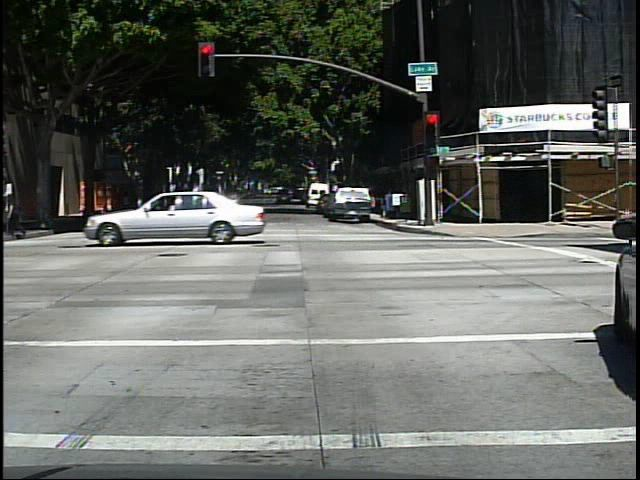person: (5, 189, 27, 242)
